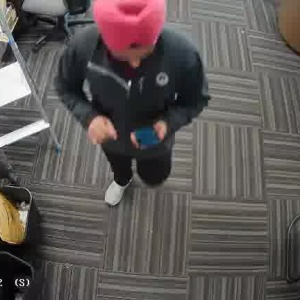person: (75, 2, 187, 209)
